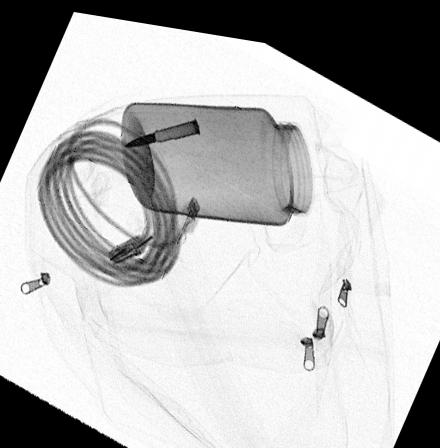Bullet: (122, 112, 201, 145)
